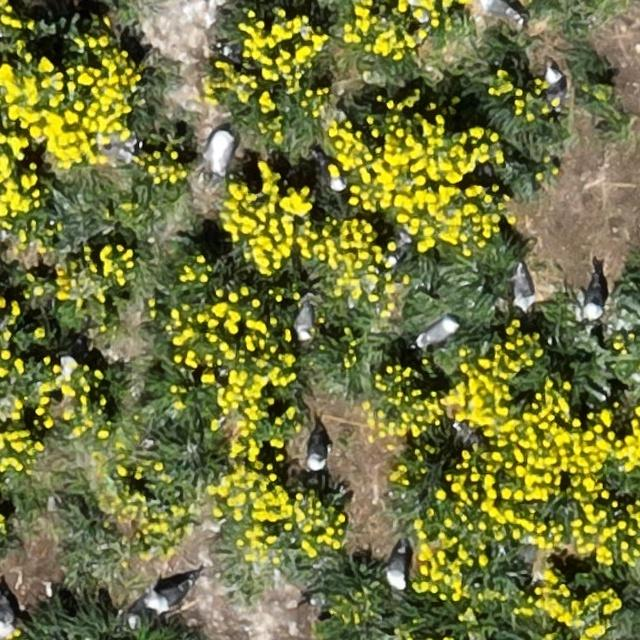umineko: (208, 133, 233, 173), (582, 276, 604, 320), (512, 267, 534, 310), (418, 320, 457, 344), (150, 586, 187, 610), (388, 550, 410, 590), (305, 432, 326, 471), (296, 304, 313, 338), (545, 67, 563, 99), (483, 0, 515, 17)
